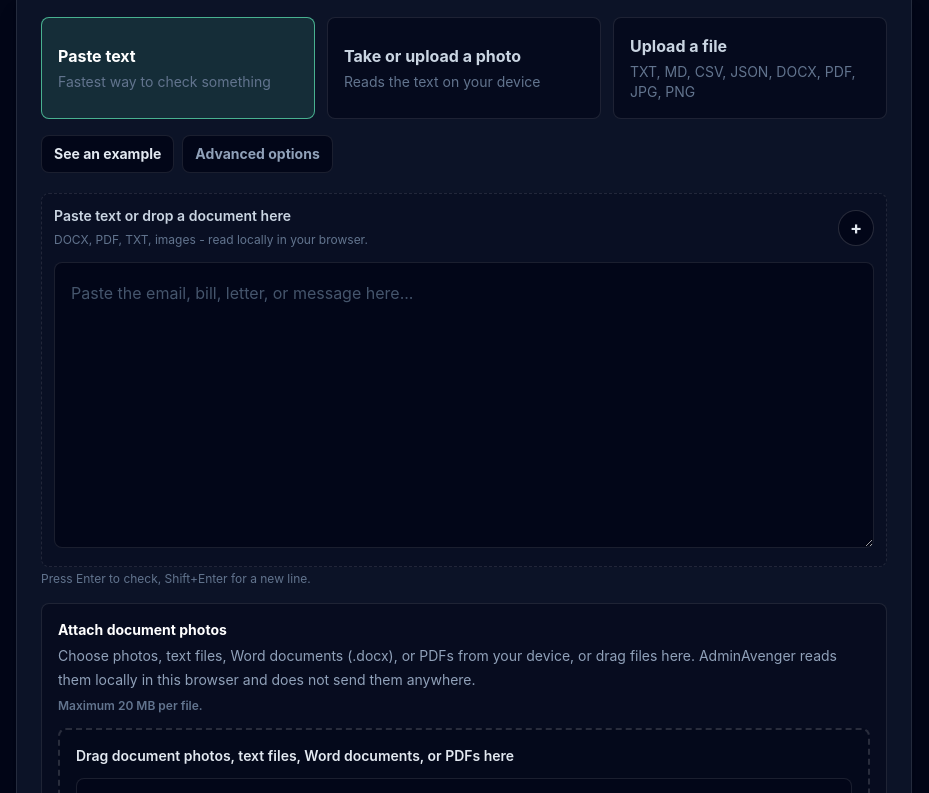
Test: Wales Care Path Return Clarity › names the orientation exit for the ordinary analysis it actually launches
This screenshot has width=929, height=793.
(page scrolled)
Type "My sister needs help." into the text box labelled "Paste text or drop a document here" at point(464, 405), box [54,262,874,548]
(page scrolled)
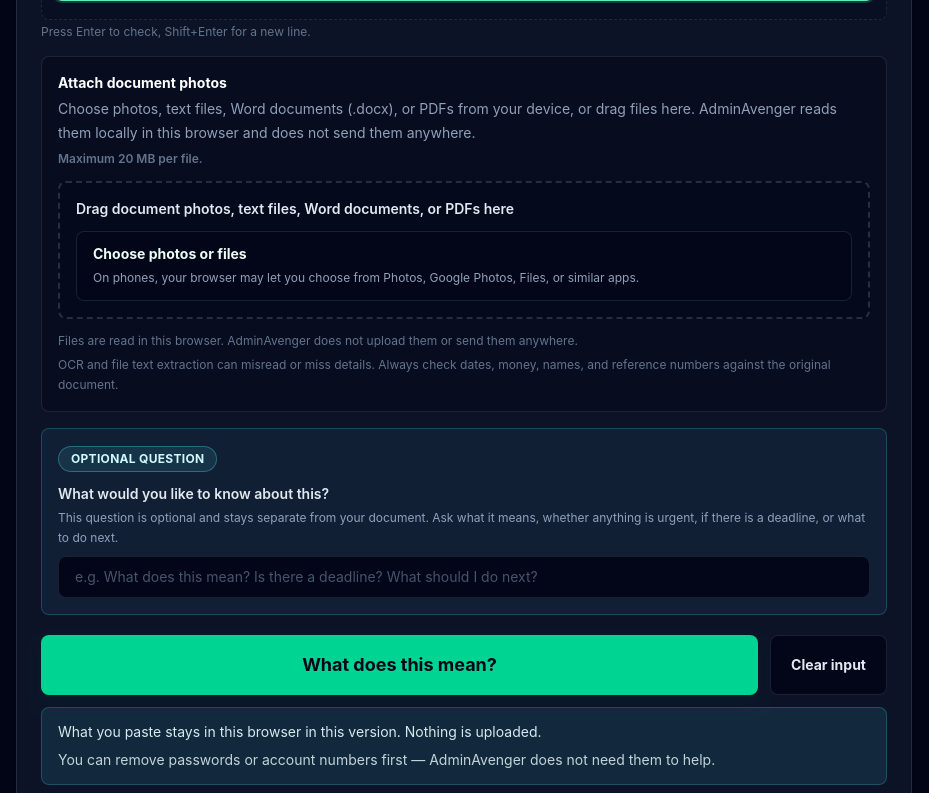
Click the button "What does this mean?" at point(400, 665), box [41,635,758,695]
(page scrolled)
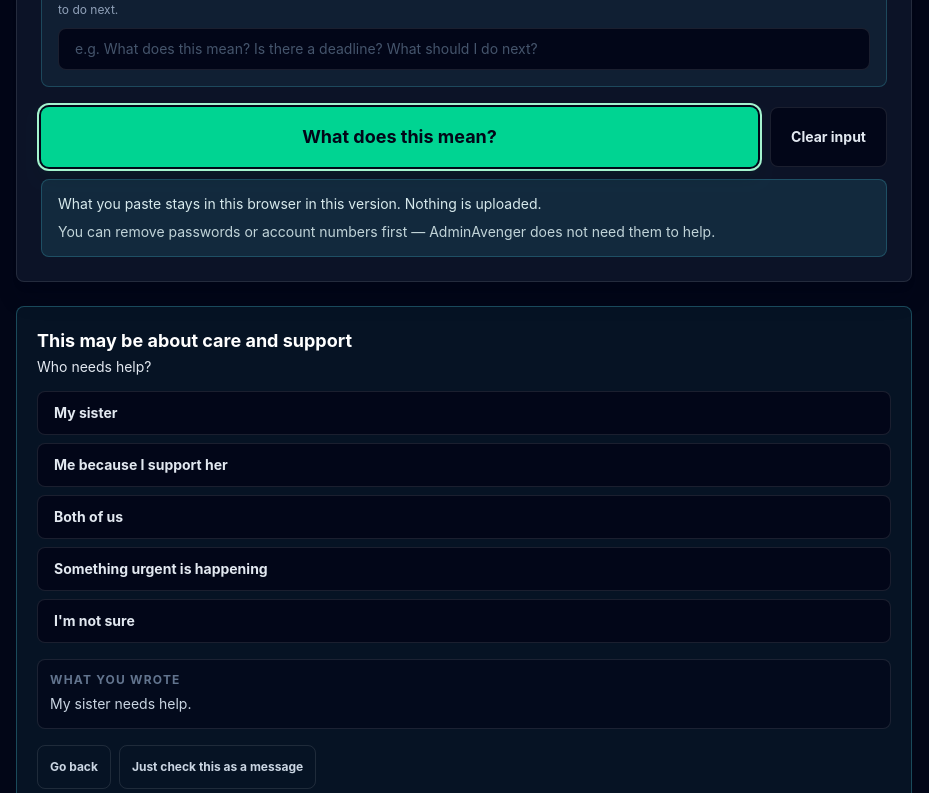
Click the button "My sister" at point(86, 412), box [37,391,891,435]
(page scrolled)
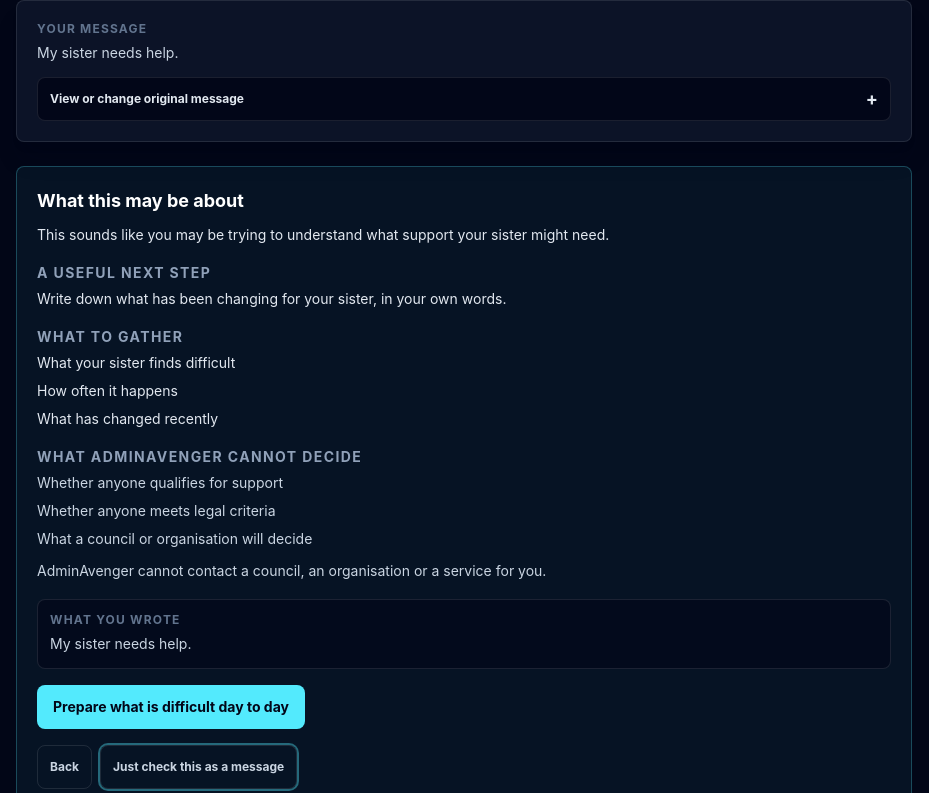
Expected: the button "Back" is shown, [37,745,92,789]
Expected: the button "Just check this as a message" is shown, [100,745,297,789]
Press Enter
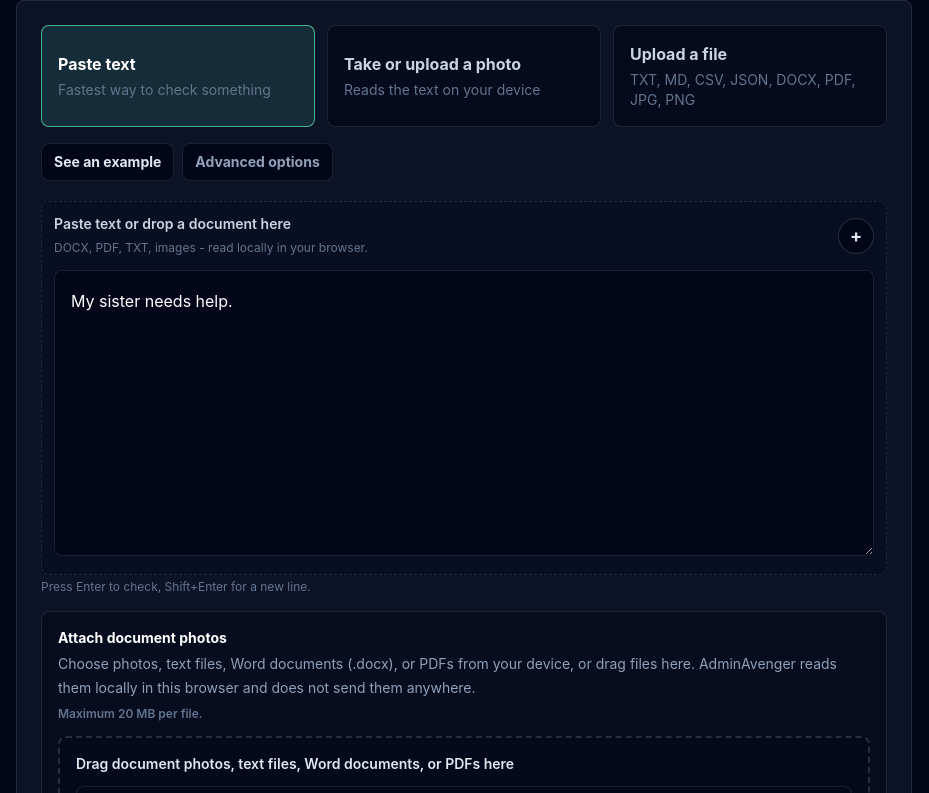
Expected: the heading "What this may be about" is gone
Expected: the button "Just check this as a message" is gone
